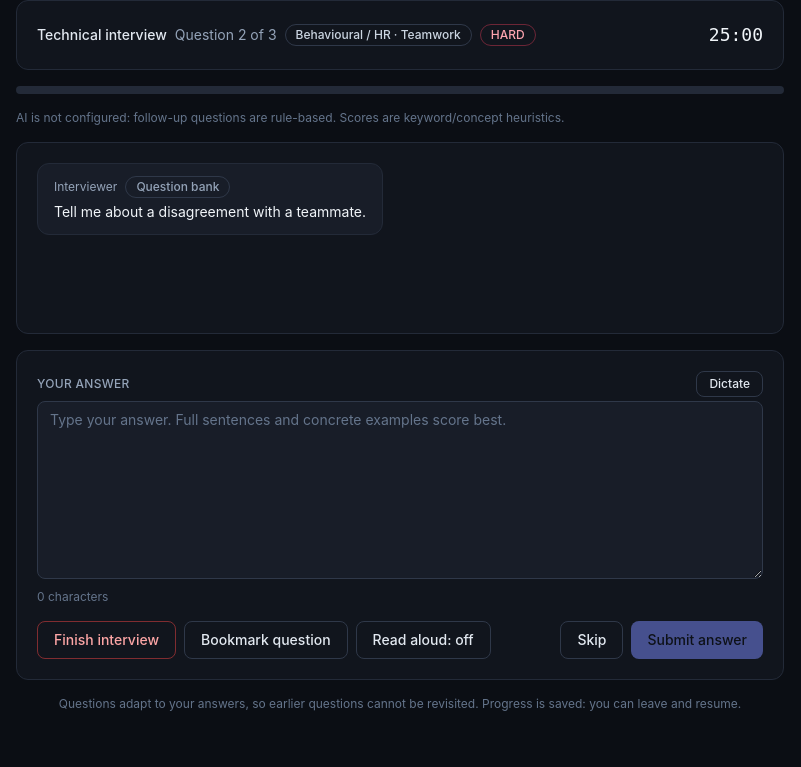
Scenario: Workspace (conversational interview room) › shows a rule-based follow-up labelled as such, then sends the reply and continues
Type "It went fine." into the text box labelled "Your answer" at (400, 490), box top-left (37, 401), bottom-right (763, 579)
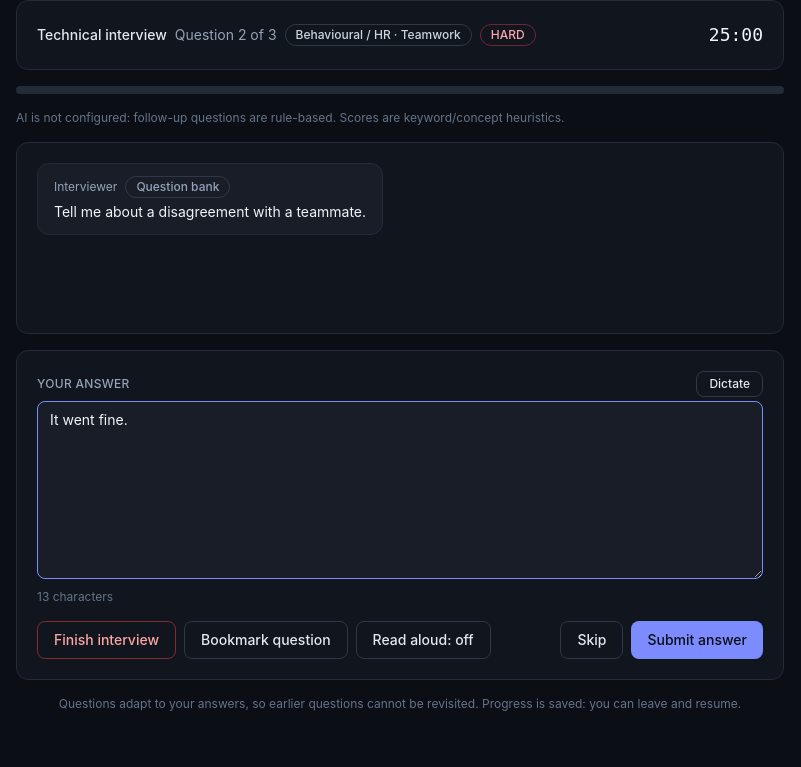
Click the button "Submit answer" at (697, 640), box top-left (632, 621), bottom-right (763, 659)
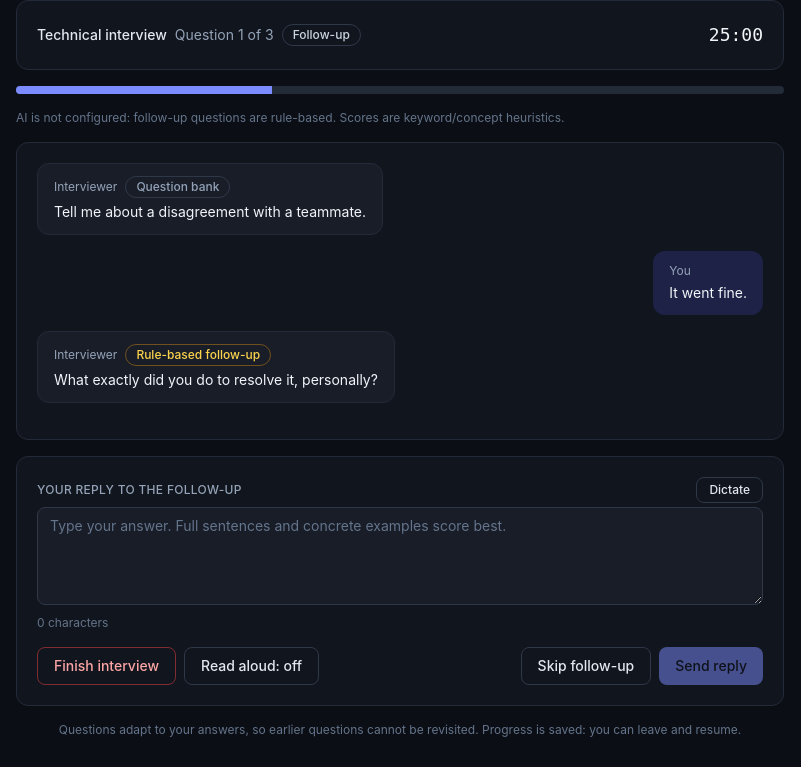
Check: the text "What exactly did you do to resolve it, personally?" is shown, box top-left (54, 370), bottom-right (378, 390)
Check: the text "Rule-based follow-up" is shown, box top-left (125, 344), bottom-right (271, 366)
Type "I proposed a plan." into the text box labelled "Your reply to the follow-up" at (400, 556), box top-left (37, 507), bottom-right (763, 605)
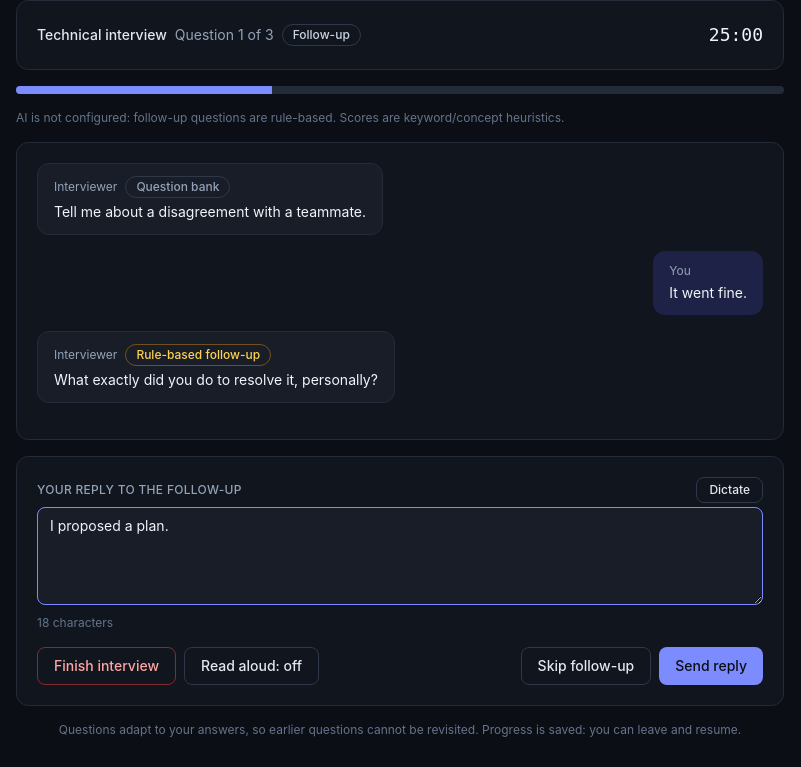
Click the button "Send reply" at (711, 666), box top-left (659, 647), bottom-right (763, 685)
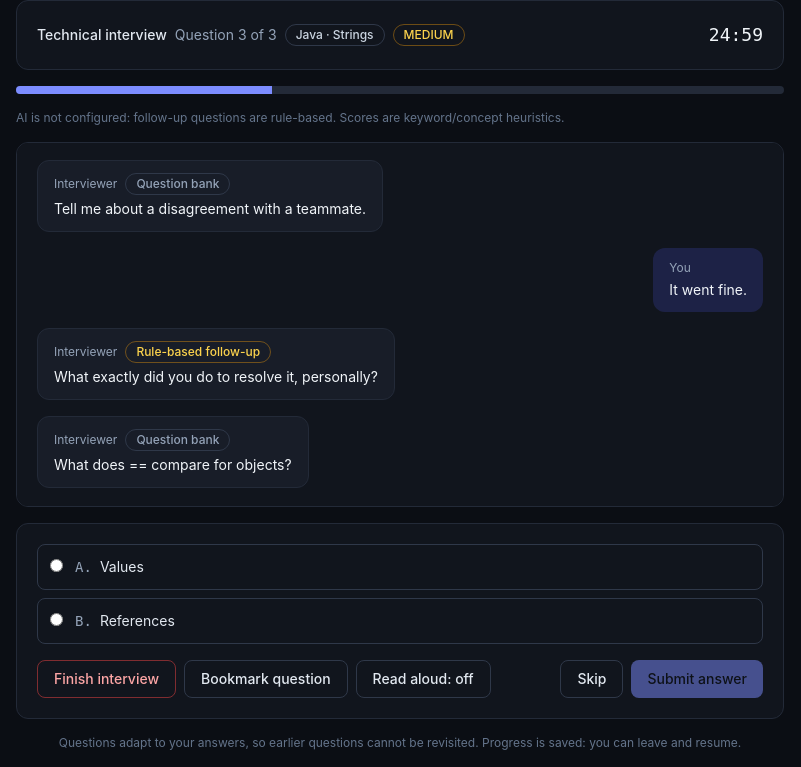
Check: the text "What does == compare for objects?" is shown, box top-left (54, 455), bottom-right (292, 475)
